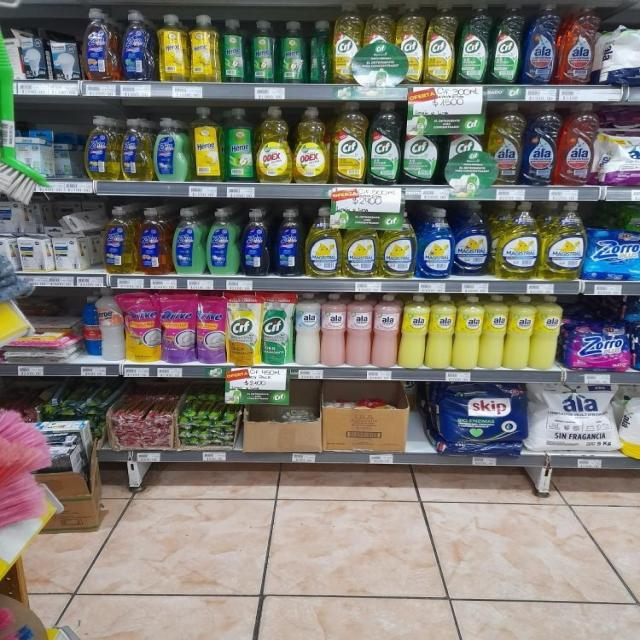ala_conc_amarillo: (489, 101, 522, 186)
ala_conc_azul: (524, 1, 558, 85), (523, 101, 556, 186)
ala_conc_rojo: (559, 3, 597, 85), (557, 102, 594, 186)
ala_crem_amarillo: (533, 294, 561, 370), (454, 294, 482, 370), (400, 293, 428, 369), (428, 294, 454, 370), (507, 295, 532, 370), (482, 295, 506, 369)
ala_crem_blanco: (294, 293, 320, 366)
ala_crem_rosado: (373, 293, 399, 368), (346, 292, 372, 367), (321, 293, 345, 367)
cif_conc_bot_amarilla: (331, 101, 366, 183), (362, 1, 397, 83), (425, 1, 456, 84), (331, 2, 361, 84), (396, 0, 424, 84)
cif_conc_botella_verde: (444, 104, 486, 188), (403, 103, 440, 185), (368, 100, 401, 184), (491, 0, 523, 85), (458, 0, 489, 85)
cif_conc_sachet_amarillo: (227, 292, 260, 365)
cif_conc_sachet_verde: (262, 292, 292, 365)
drive: (125, 292, 159, 363), (161, 293, 195, 364), (196, 294, 226, 365)
magistral_con_amarillo: (494, 201, 539, 279), (541, 202, 585, 280), (306, 206, 342, 278), (379, 210, 415, 278), (343, 218, 378, 278)
magistral_con_azul: (454, 200, 491, 276), (417, 206, 452, 279)
odex: (256, 106, 292, 182), (294, 106, 329, 183)
zorro: (171, 207, 205, 276), (137, 206, 170, 275), (206, 207, 239, 276), (103, 205, 136, 274), (154, 116, 188, 182), (85, 116, 118, 180), (273, 208, 304, 276), (240, 207, 270, 276), (121, 117, 151, 181)
